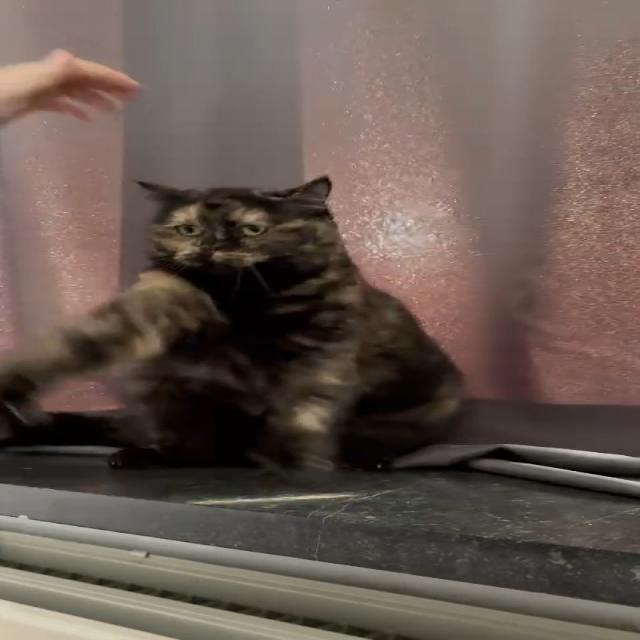authorized: (1, 174, 467, 473)
